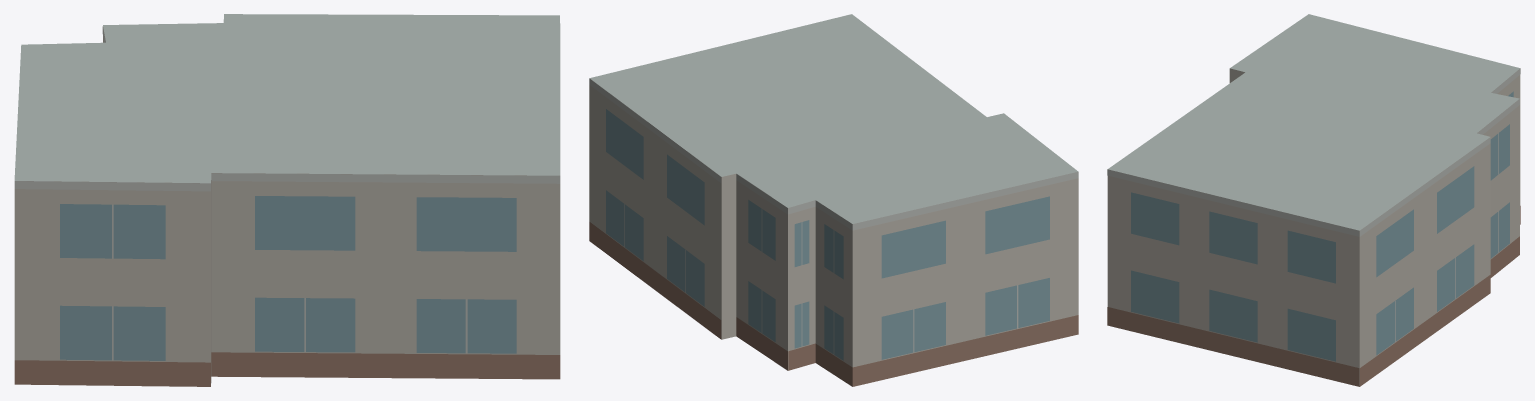
The model's file is survey-upis-32603595.glb.
3 views of the same model, side by side, from view 1: azimuth 30°, elevation 25°; view 2: azimuth 150°, elevation 25°; view 3: azimuth 270°, elevation 25° (orthographic). The views are drawn at different scales.
Visible parts, largest first — view 1: survey-upis-32603595.tmp; view 2: survey-upis-32603595.tmp; view 3: survey-upis-32603595.tmp.
Part boxes in pixels (x1,y1,x2,y2): survey-upis-32603595.tmp: [14, 14, 560, 386]; survey-upis-32603595.tmp: [589, 14, 1078, 386]; survey-upis-32603595.tmp: [1107, 14, 1520, 386].
Bounding box in the file's own units: 18.16 × 6.1 × 14.63.
